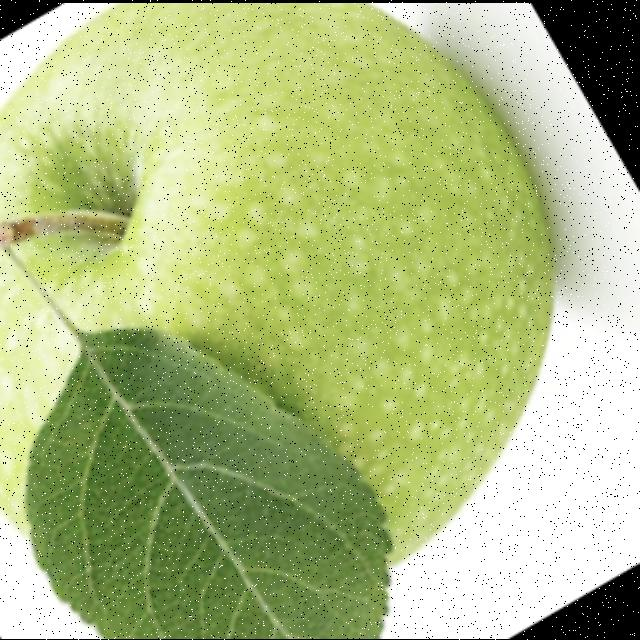Apel Segar: (0, 2, 598, 638)
